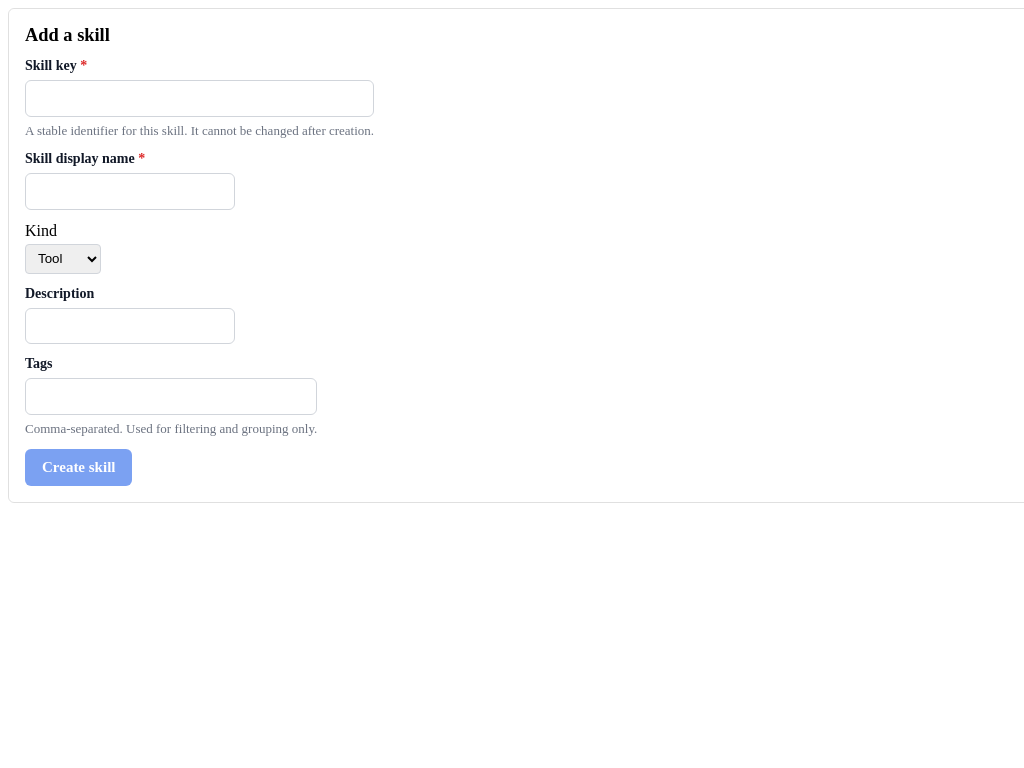
SkillCreateForm › a keyed refusal from the server is rendered
In the field labelled "Skill key *": (200, 98) [25, 80, 374, 117], type "x"
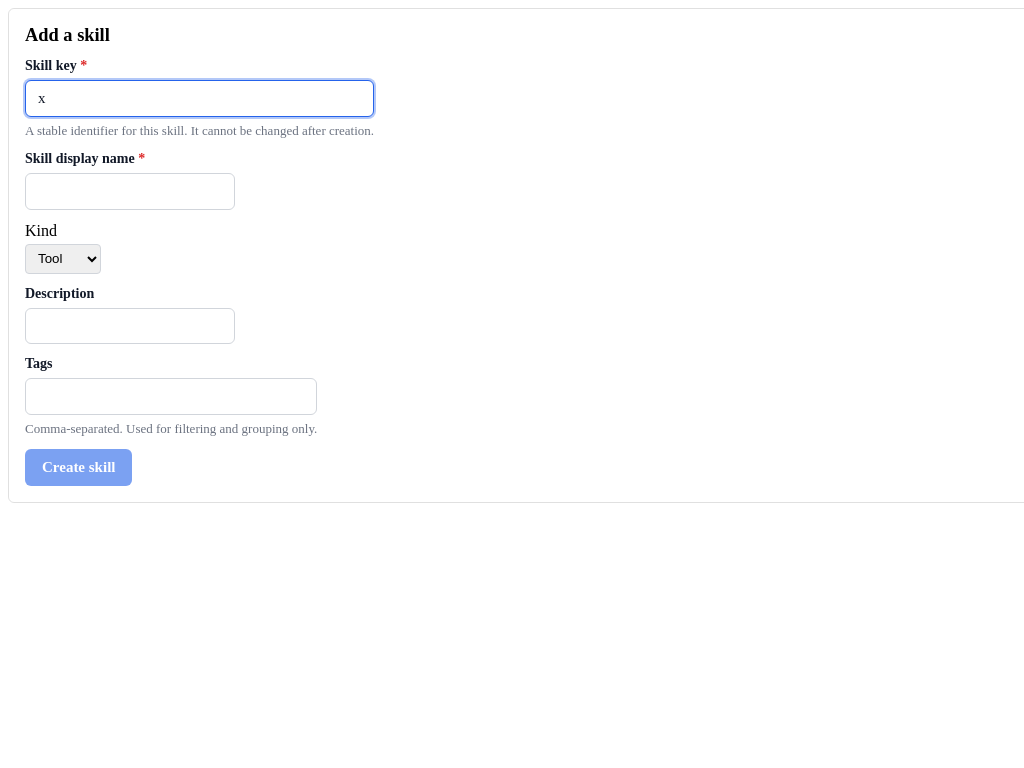
In the field labelled "Skill display name *": (130, 191) [25, 173, 235, 210], type "X"
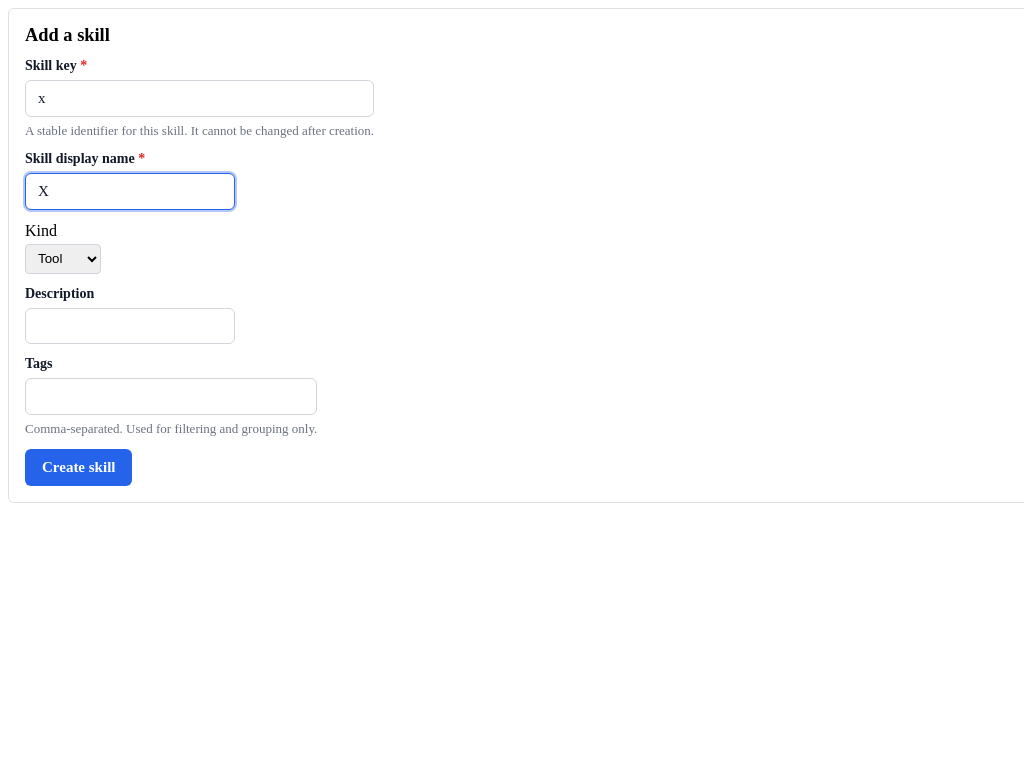
Click the button "Create skill": (79, 468) [25, 449, 132, 486]
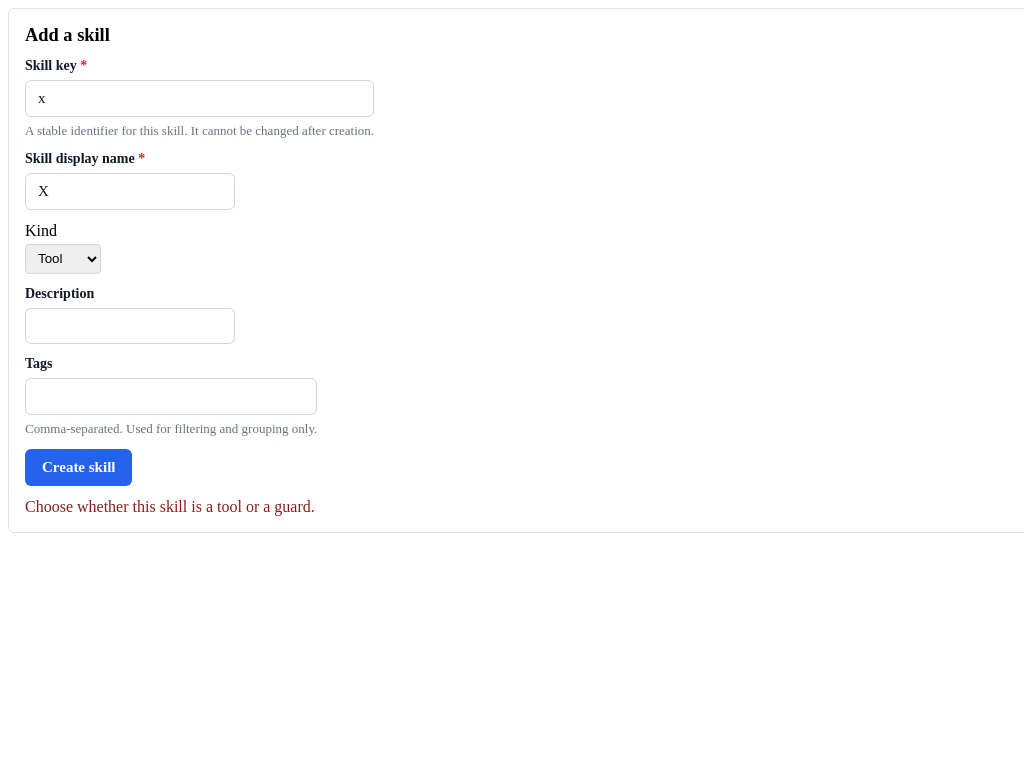
Expected: the message reads "Choose whether this skill is a tool or a guard.", [25, 498, 315, 515]
